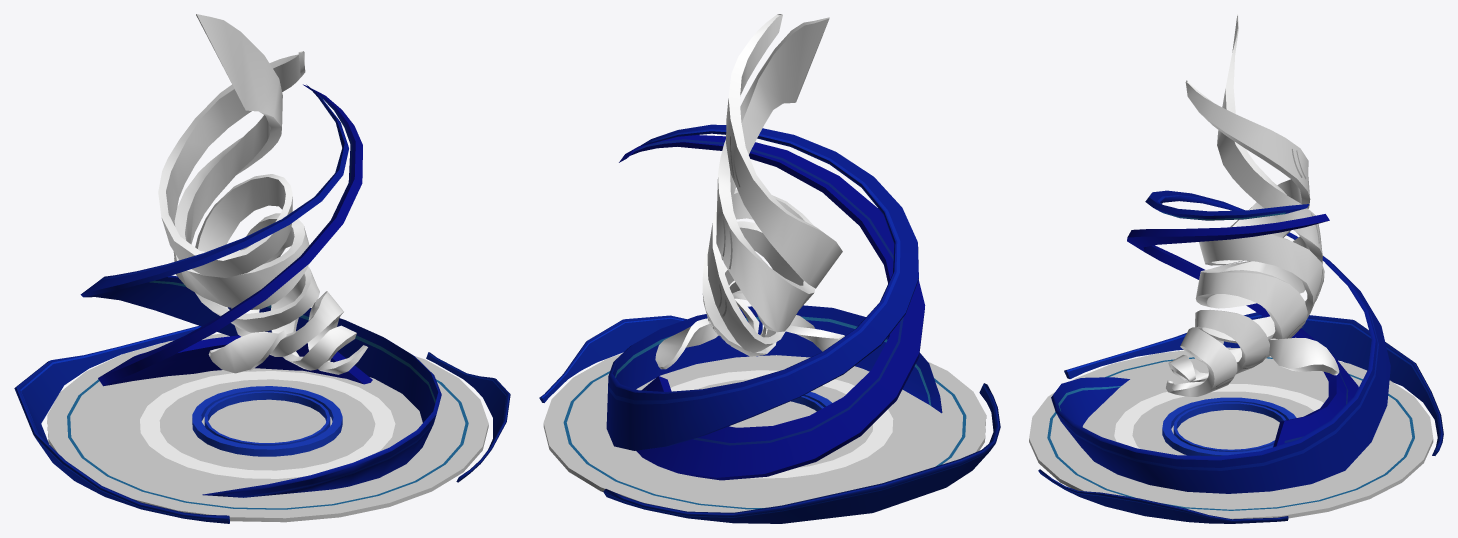
Rendered from W_O_Landmark_003_L1.fbx.
3 views of the same model, side by side, from view 1: azimuth 30°, elevation 25°; view 2: azimuth 150°, elevation 25°; view 3: azimuth 270°, elevation 25° (orthographic). The views are drawn at different scales.
Visible parts, largest first — view 1: W_O_Landmark_003_L1; view 2: W_O_Landmark_003_L1; view 3: W_O_Landmark_003_L1.
Part boxes in pixels (x1,y1,x2,y2): W_O_Landmark_003_L1: [14, 14, 510, 523]; W_O_Landmark_003_L1: [539, 14, 1000, 523]; W_O_Landmark_003_L1: [1029, 14, 1443, 523].
Bounding box in the file's own units: 6.06 × 5.94 × 5.68.
